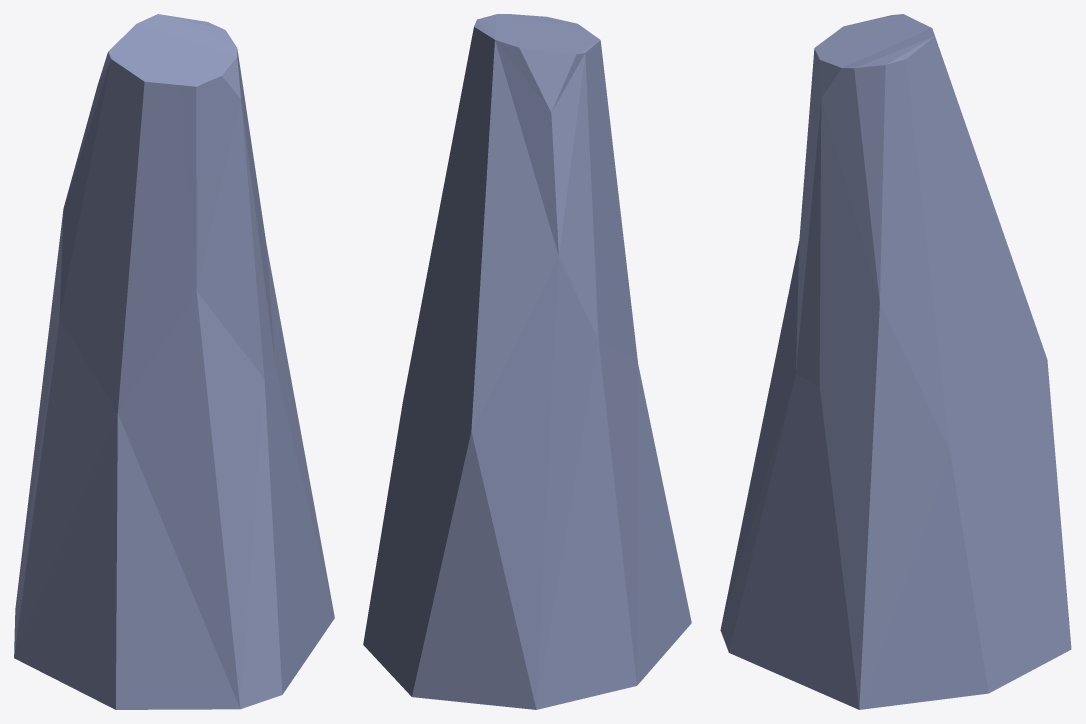
The model's file is Rock_16.fbx.
3 renders of one model, left to right at view 1: azimuth 30°, elevation 25°; view 2: azimuth 150°, elevation 25°; view 3: azimuth 270°, elevation 25°, orthographic.
Visible parts, largest first — view 1: Rock_16; view 2: Rock_16; view 3: Rock_16.
Boxes of the visible parts, box(x1,y1,x2,y2) form: Rock_16: box(14, 14, 334, 709); Rock_16: box(363, 14, 691, 709); Rock_16: box(720, 14, 1071, 709).
Bounding box in the file's own units: 4.34 × 8.98 × 4.71.
